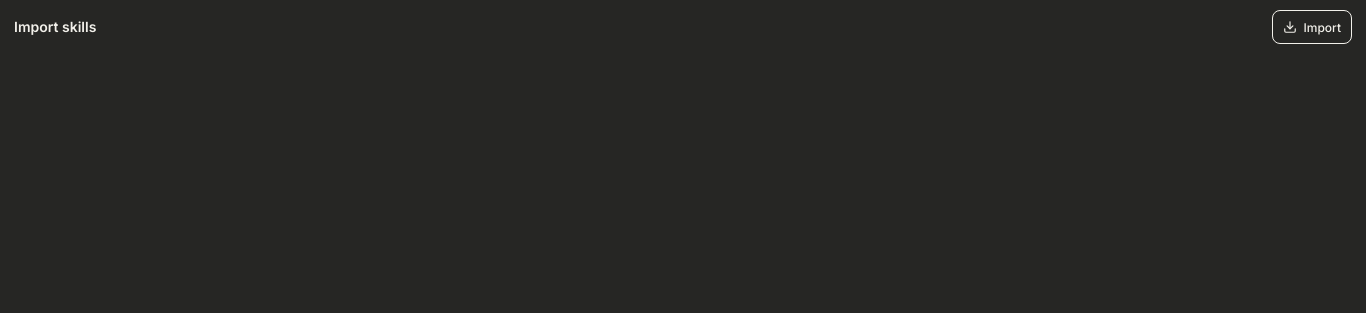
Scenario: clears stale previews and reports source failures
This screenshot has width=1366, height=313.
Click the button "Import" at point(1312, 27), box [1272,10,1352,44]
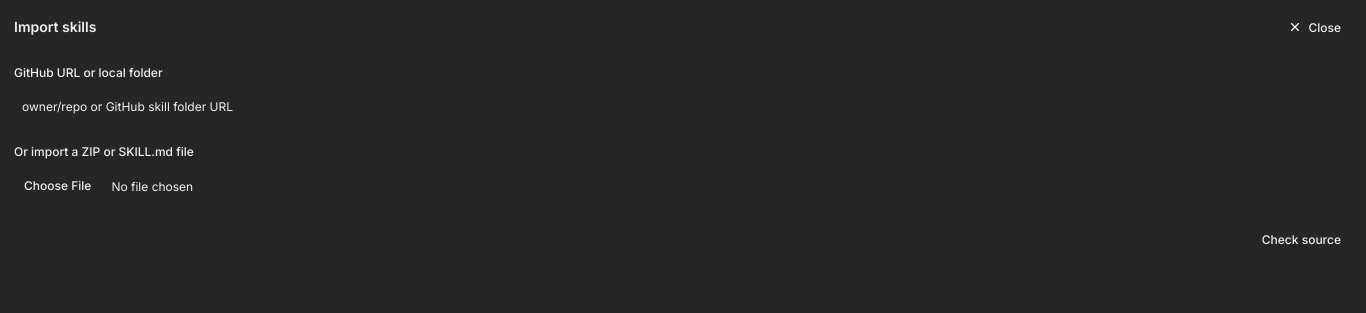
Type "missing/repo" into the field labelled "GitHub URL or local folder" at point(683, 106), box [14,89,1352,123]
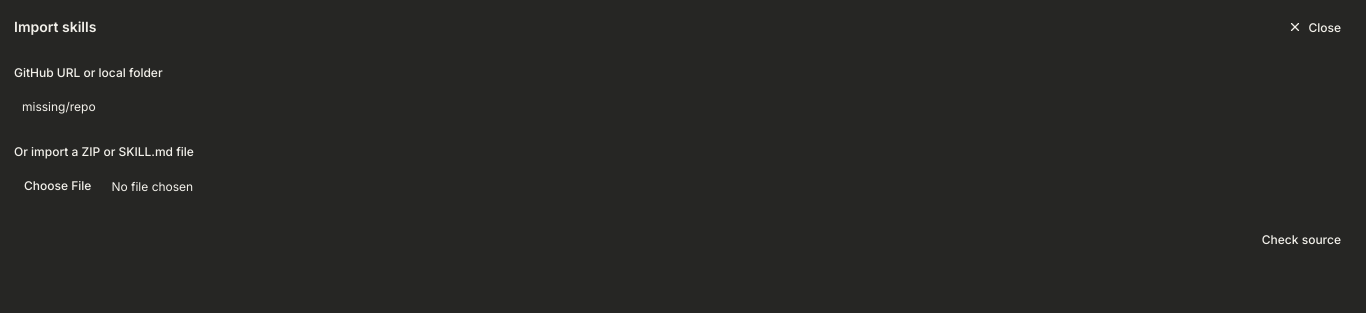
Click the button "Check source" at point(1301, 240), box [1251,223,1352,257]
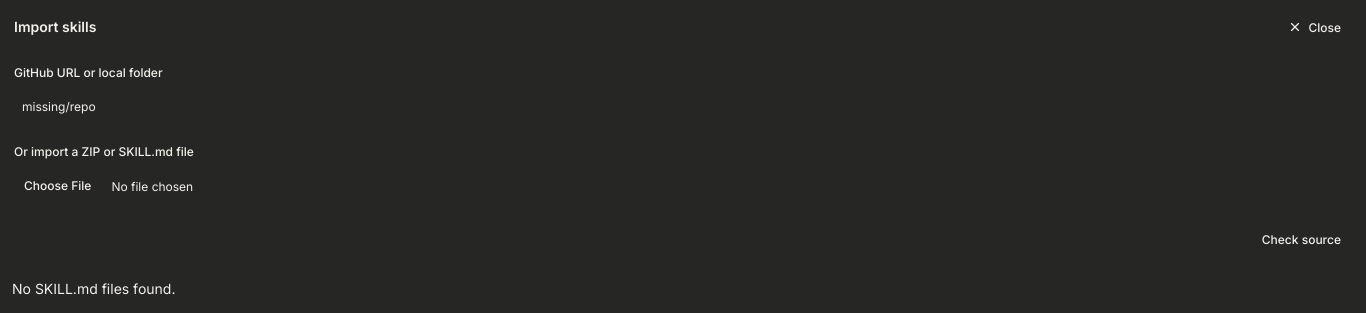
Check: the message shows "No SKILL.md", box [12,280,176,297]
Replace the text in the field labelled "GitHub URL or local folder" with "other/repo" at point(683, 106), box [14,89,1352,123]
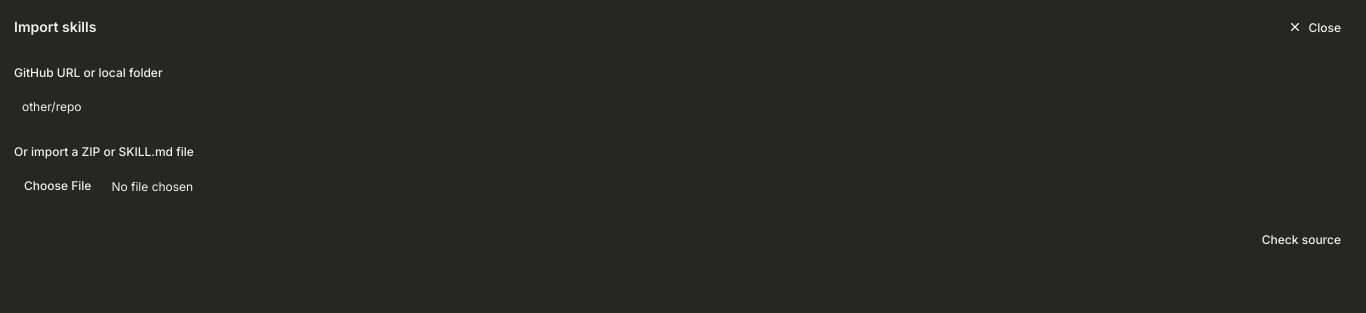
Check: the message "No SKILL.md files found." is gone
